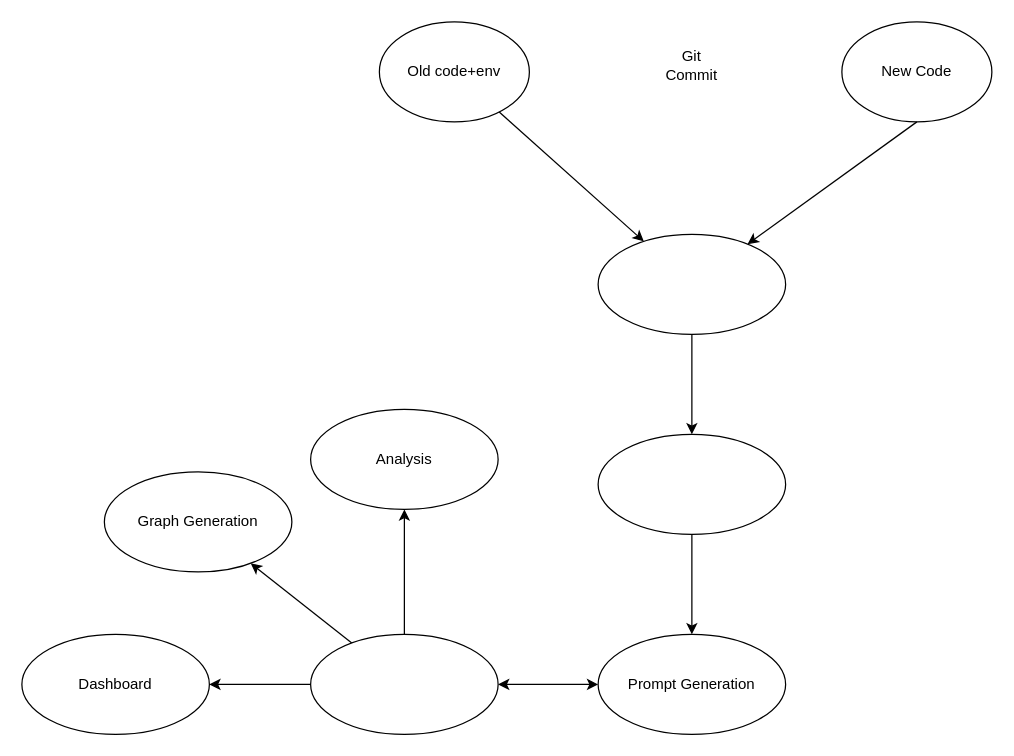
This 1014x756 diagram has some shape labels left out. The shapes that lost their labels are listed below. From the top down, each one's centre as x and y in pixels, then its label:
the point at 691,283: SAST Scanning
the point at 691,483: Parsing and Data Cleaning
the point at 403,683: Chatgpt
